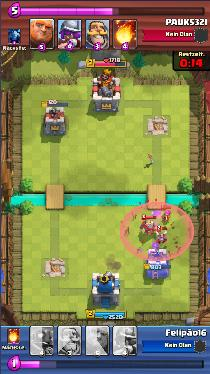ally_arrow: (120, 201, 194, 260)
enemy_archer: (162, 210, 173, 221)
enemy_knight: (140, 220, 157, 235)
enemy_minion: (156, 232, 167, 243)
